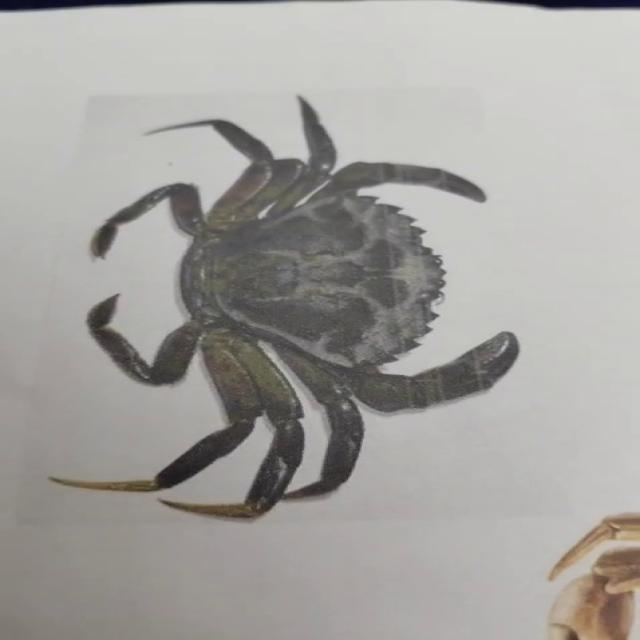egc: (51, 96, 518, 518)
